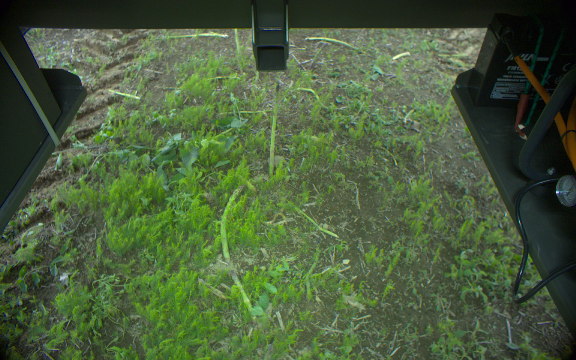aspa: (221, 184, 244, 260), (265, 83, 280, 176), (306, 36, 366, 56), (229, 270, 251, 308), (233, 29, 241, 65)
